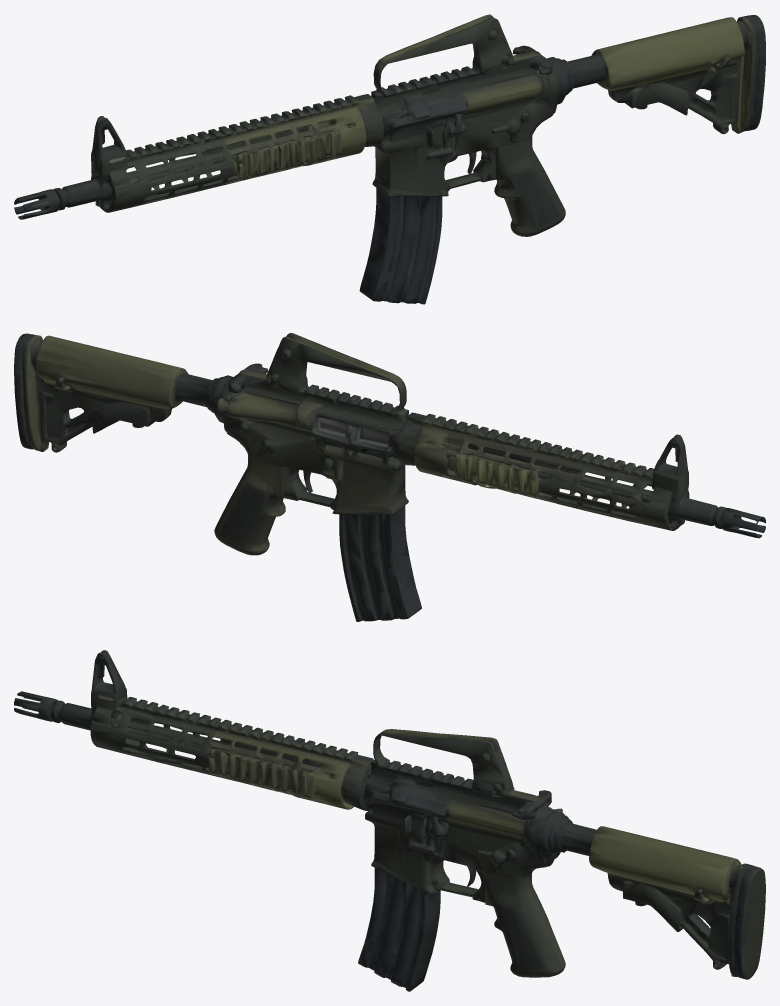
File: Rifle.glb
3 views of the same model, one above another, from view 1: azimuth 30°, elevation 25°; view 2: azimuth 150°, elevation 25°; view 3: azimuth 330°, elevation 25° (orthographic).
Visible parts, largest first — view 1: output_unwrapped; view 2: output_unwrapped; view 3: output_unwrapped.
Boxes of the visible parts, <box> form: output_unwrapped: <box>14,14,765,304</box>; output_unwrapped: <box>14,333,765,621</box>; output_unwrapped: <box>14,650,765,991</box>.
Bounding box in the file's own units: 0.3512 × 0.12 × 0.0286.
1 material, 1 textured.
